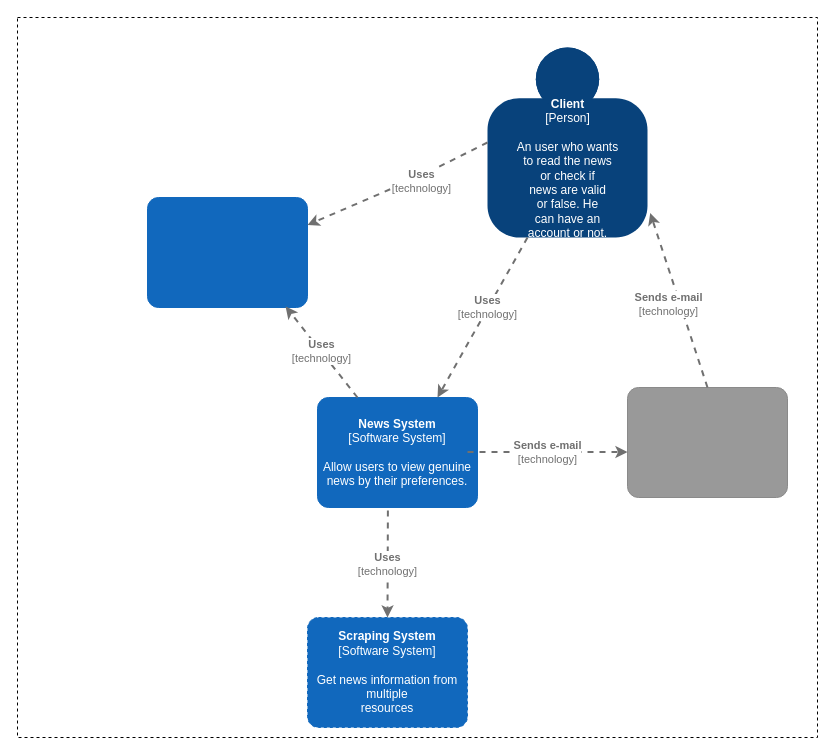
The diagram is 835 pixels wide and 755 high, and some of its shapes have lost their labels. The shapes that lost their labels are listed below. From the top down, each one's box as (x1, y1, x2, y2) in pixels, then its label:
(146, 196, 308, 308): Validation System [Software System] Checks whether news are valid or fake.
(626, 386, 788, 498): Email System [Software System] The internal Microsoft Exchange e-mail system.
